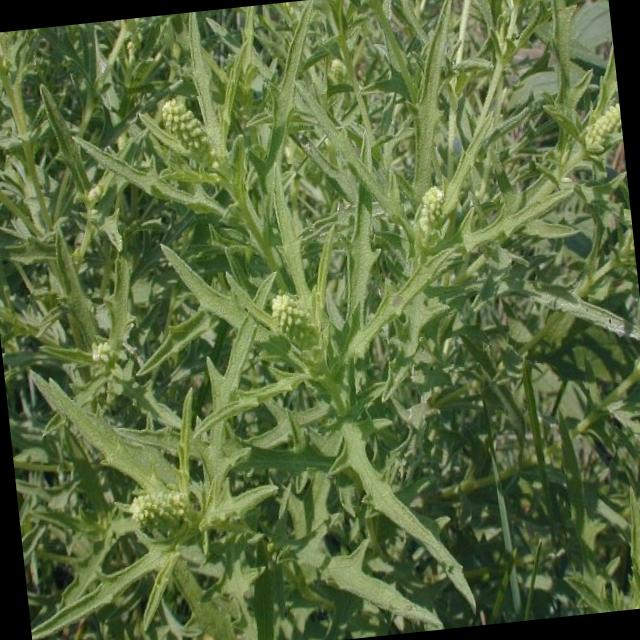ambrosia: (77, 454, 296, 640), (116, 64, 331, 235), (240, 237, 378, 470), (367, 140, 481, 278)
